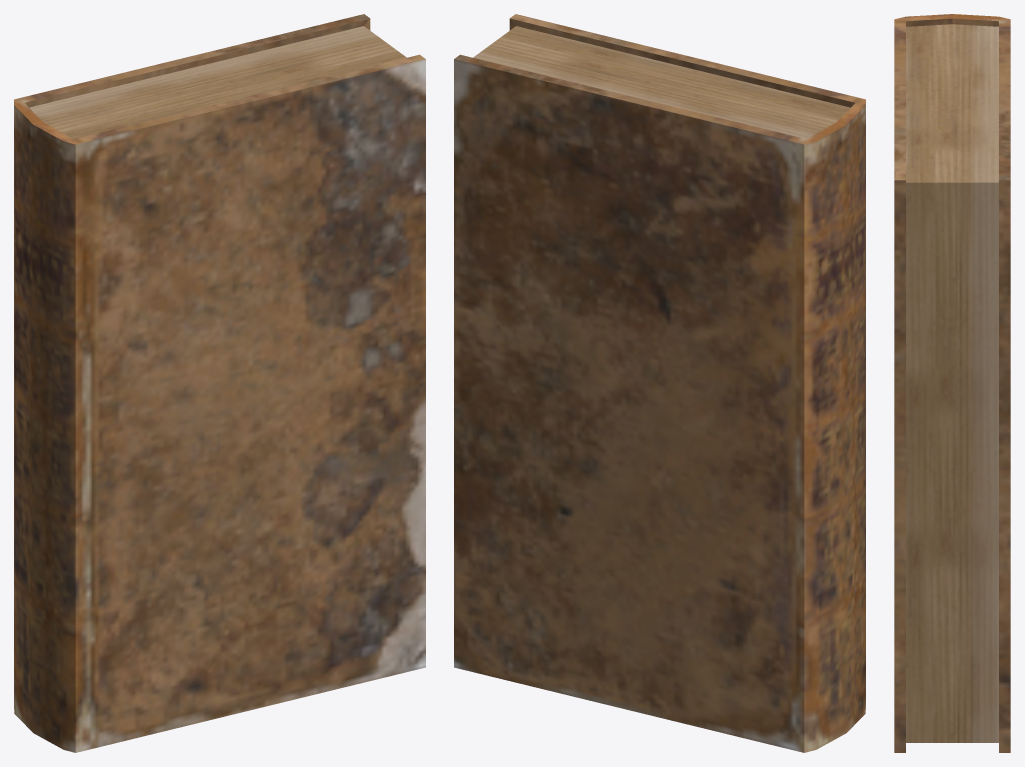
Rendered from SM_Book_Old.022.fbx.
3 renders of one model, left to right at view 1: azimuth 30°, elevation 25°; view 2: azimuth 150°, elevation 25°; view 3: azimuth 270°, elevation 25°, orthographic. The views are drawn at different scales.
Visible parts, largest first — view 1: SM_Book_Old.022; view 2: SM_Book_Old.022; view 3: SM_Book_Old.022.
Part boxes in pixels (bbox=[...]): SM_Book_Old.022: bbox=[14, 14, 425, 752]; SM_Book_Old.022: bbox=[454, 14, 865, 752]; SM_Book_Old.022: bbox=[894, 14, 1010, 752].
Bounding box in the file's own units: 0.1937 × 0.3113 × 0.0572.
